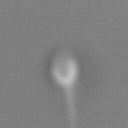normal: (62, 88, 82, 128)
